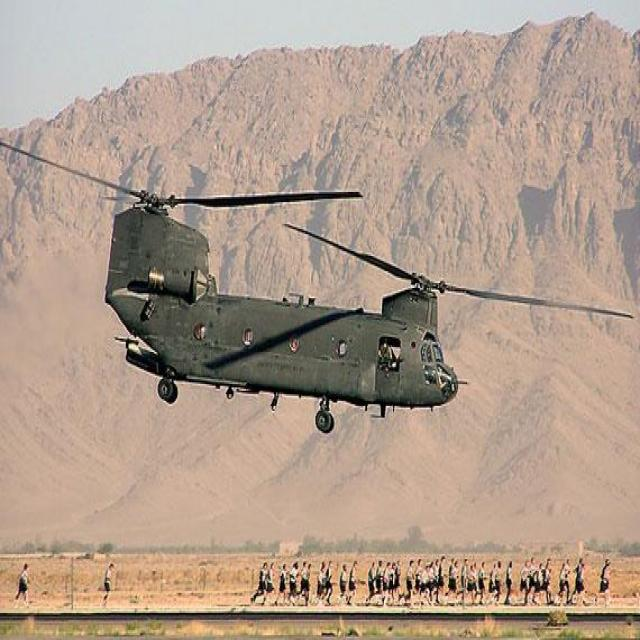MIL_HELO: (6, 130, 640, 430)
